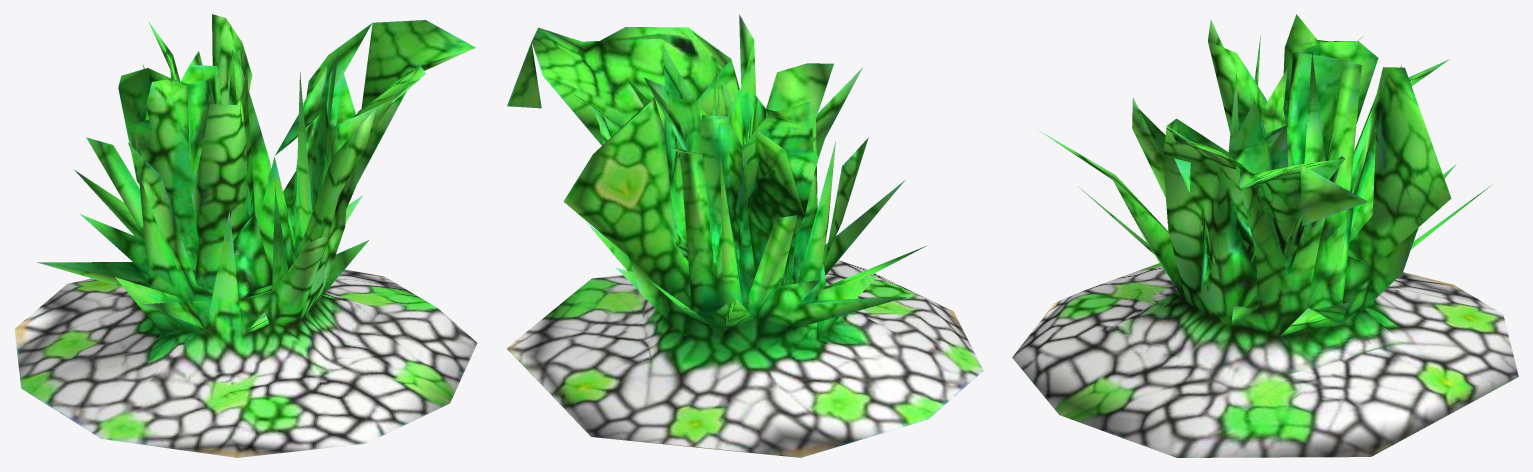
File: p_bush.glb
3 views of the same model, side by side, from view 1: azimuth 30°, elevation 25°; view 2: azimuth 150°, elevation 25°; view 3: azimuth 270°, elevation 25° (orthographic). The views are drawn at different scales.
Parts seen in each view (by area): view 1: Mesh_0; view 2: Mesh_0; view 3: Mesh_0.
Boxes of the visible parts, x1=… form: Mesh_0: x1=14, y1=14, x2=477, y2=457; Mesh_0: x1=506, y1=14, x2=983, y2=457; Mesh_0: x1=1012, y1=14, x2=1518, y2=457.
Bounding box in the file's own units: 0.4514 × 0.3 × 0.4416.
Materials: 1 (1 with a texture image).
